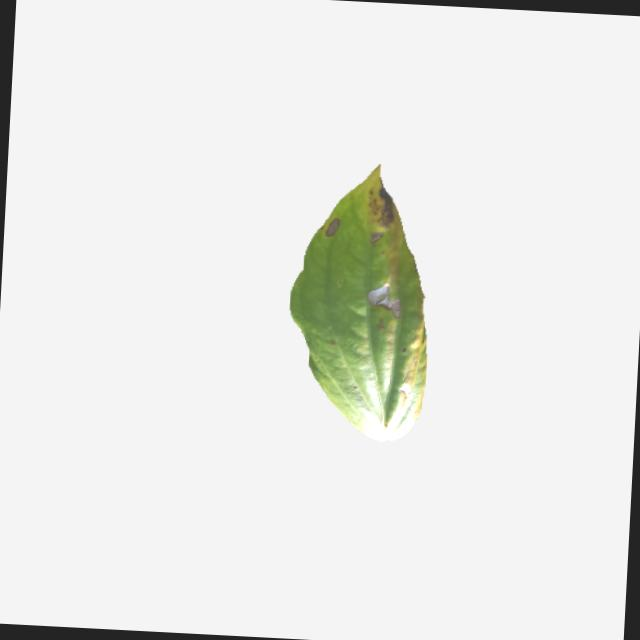yellow-mottle-virus: (278, 165, 452, 452)
